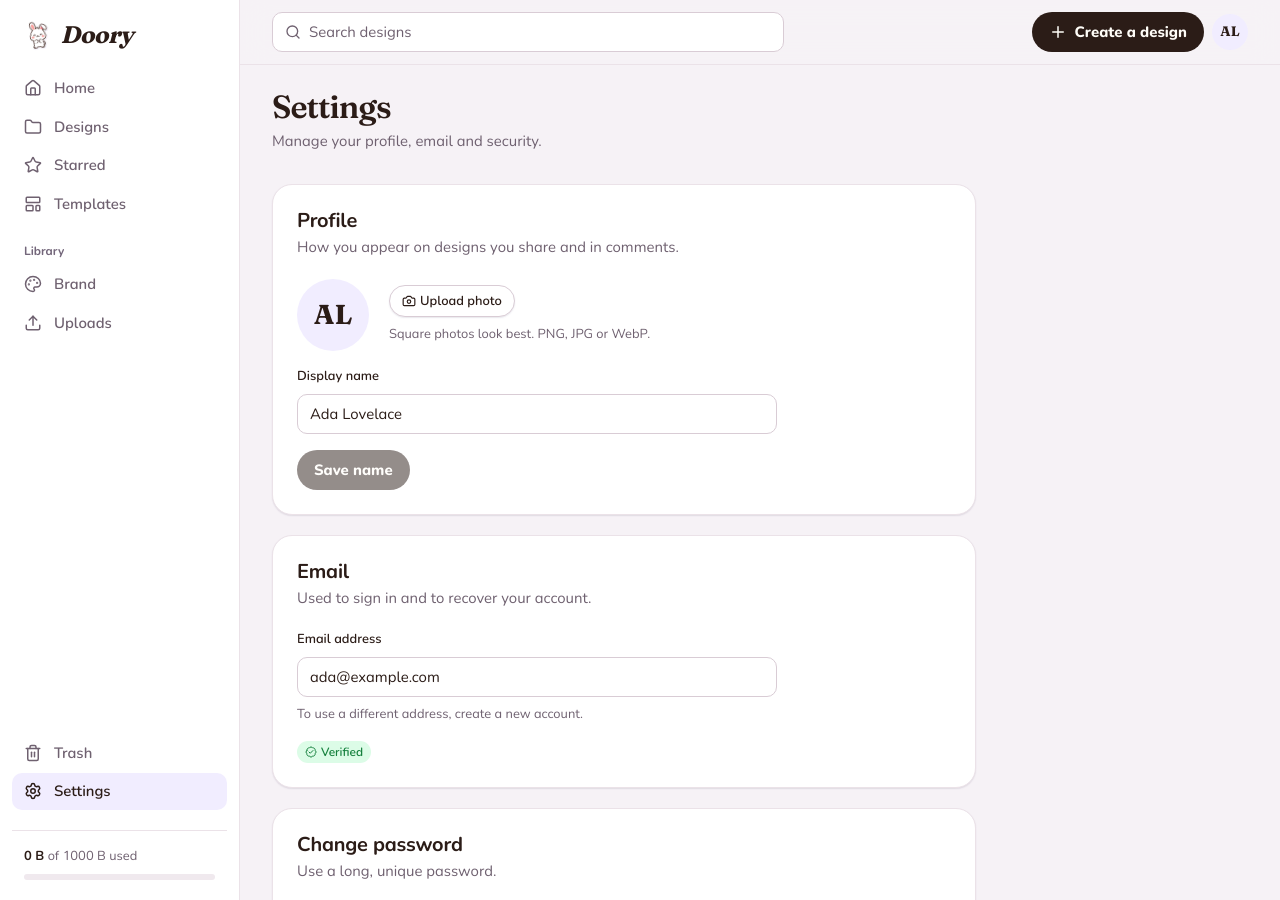
it: settings: profile › updates the display name
The image size is (1280, 900).
Expected: the button "Save name" is disabled, [297,450,410,490]
Replace the text in the field labelled "Display name" with "Ada B." at (537, 414), box [310,395,764,433]
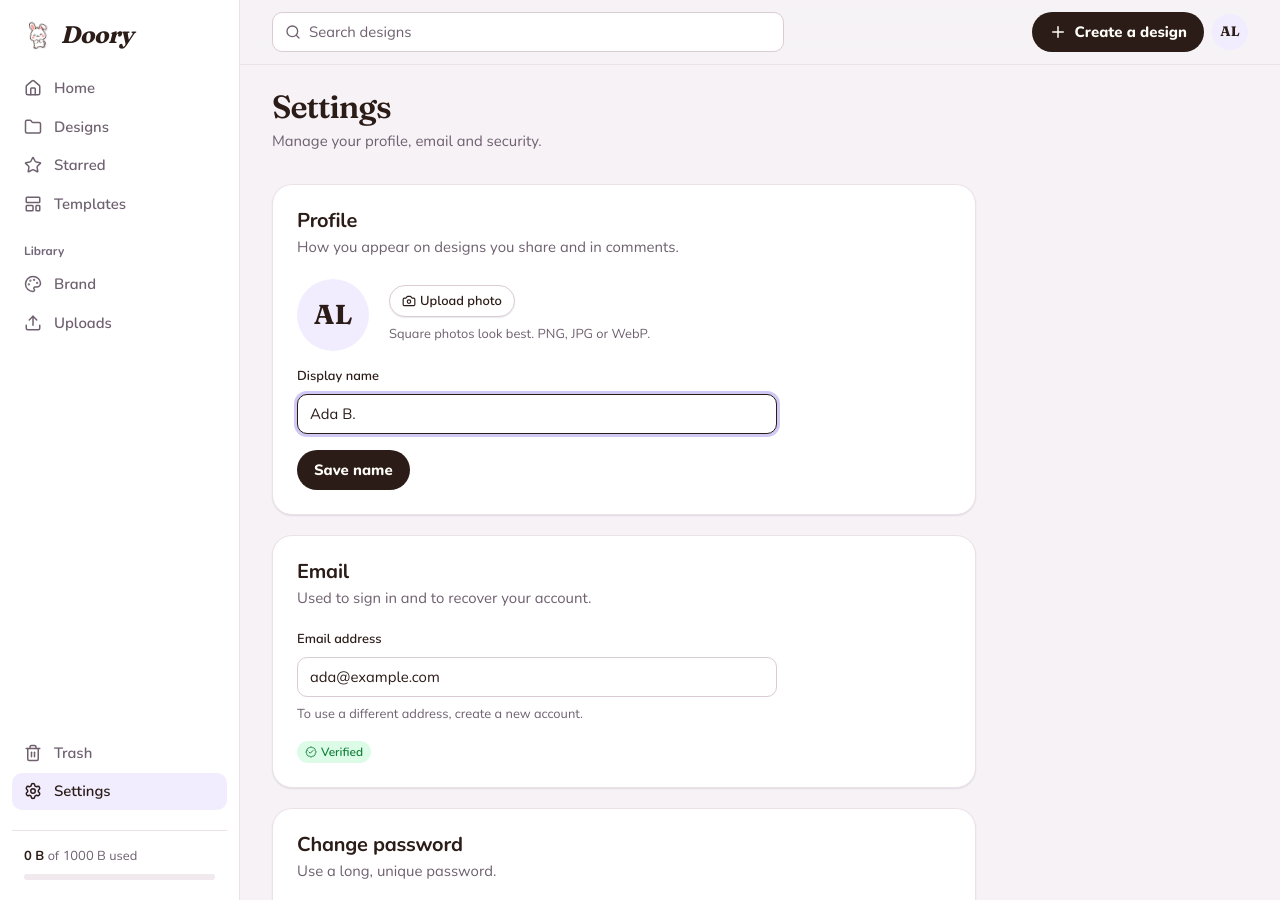
Click the button "Save name" at (353, 470), box [297,450,410,490]
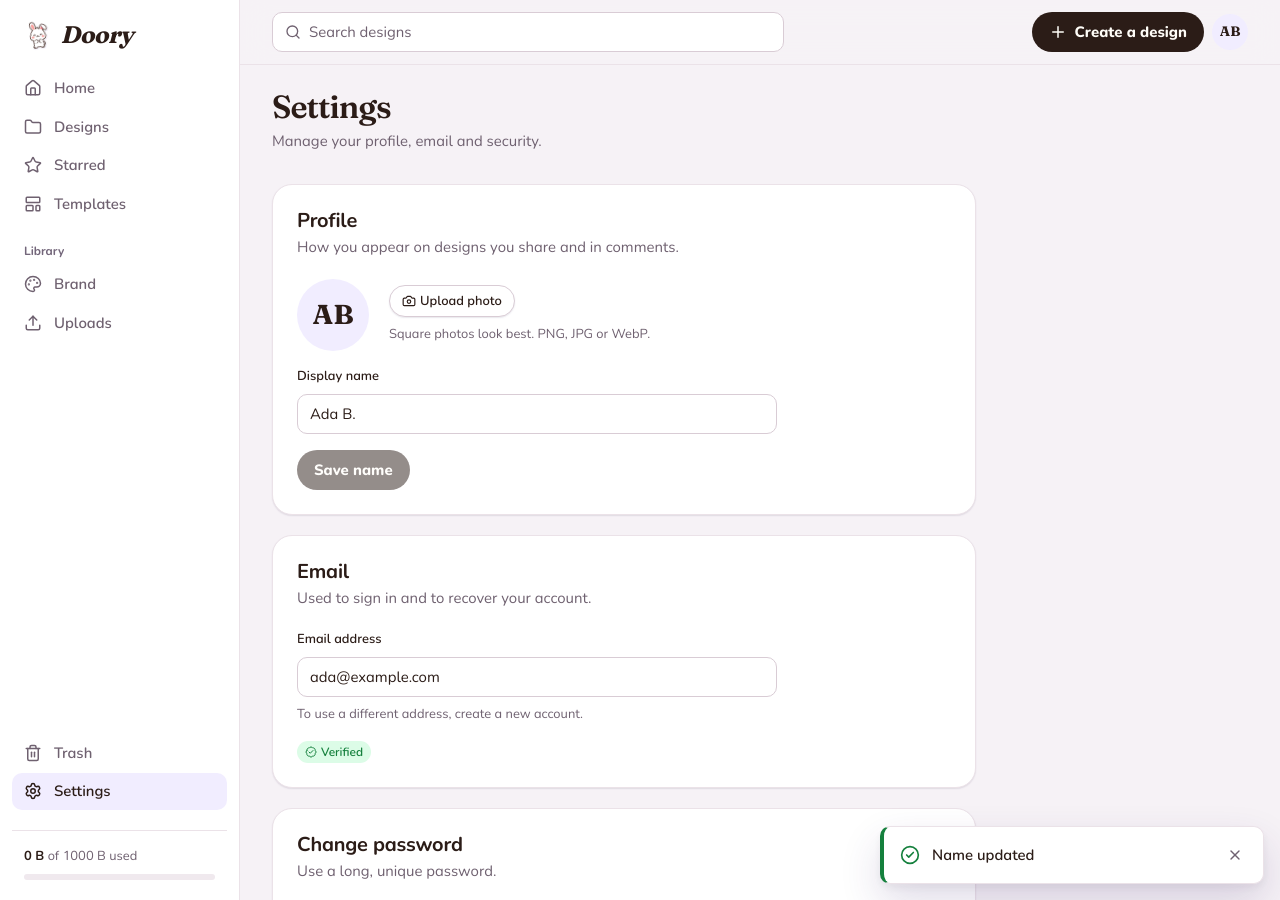
Expected: the text "Name updated" is shown, [932,845,1034,865]
